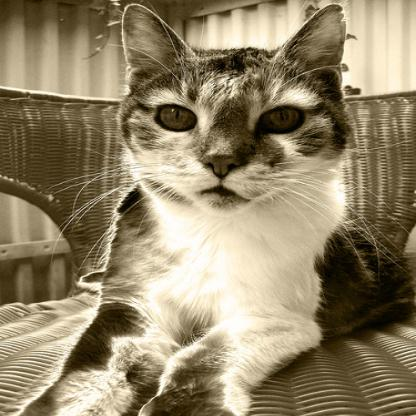cat: (38, 0, 406, 415)
